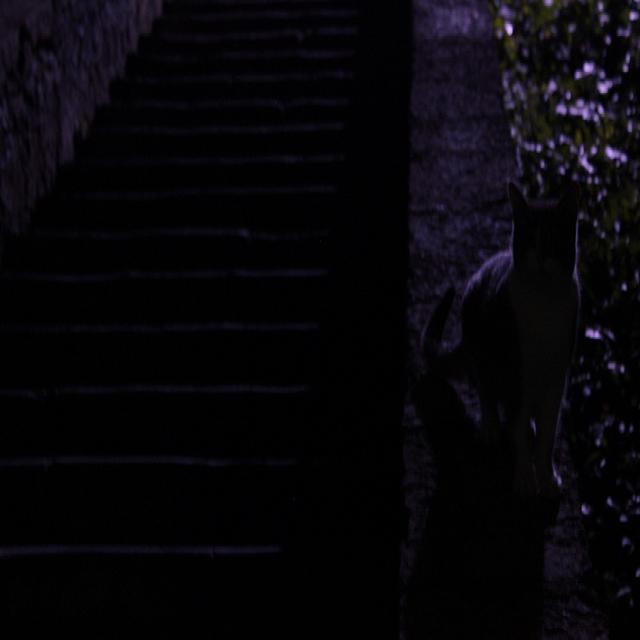Cat: (437, 157, 617, 490)
